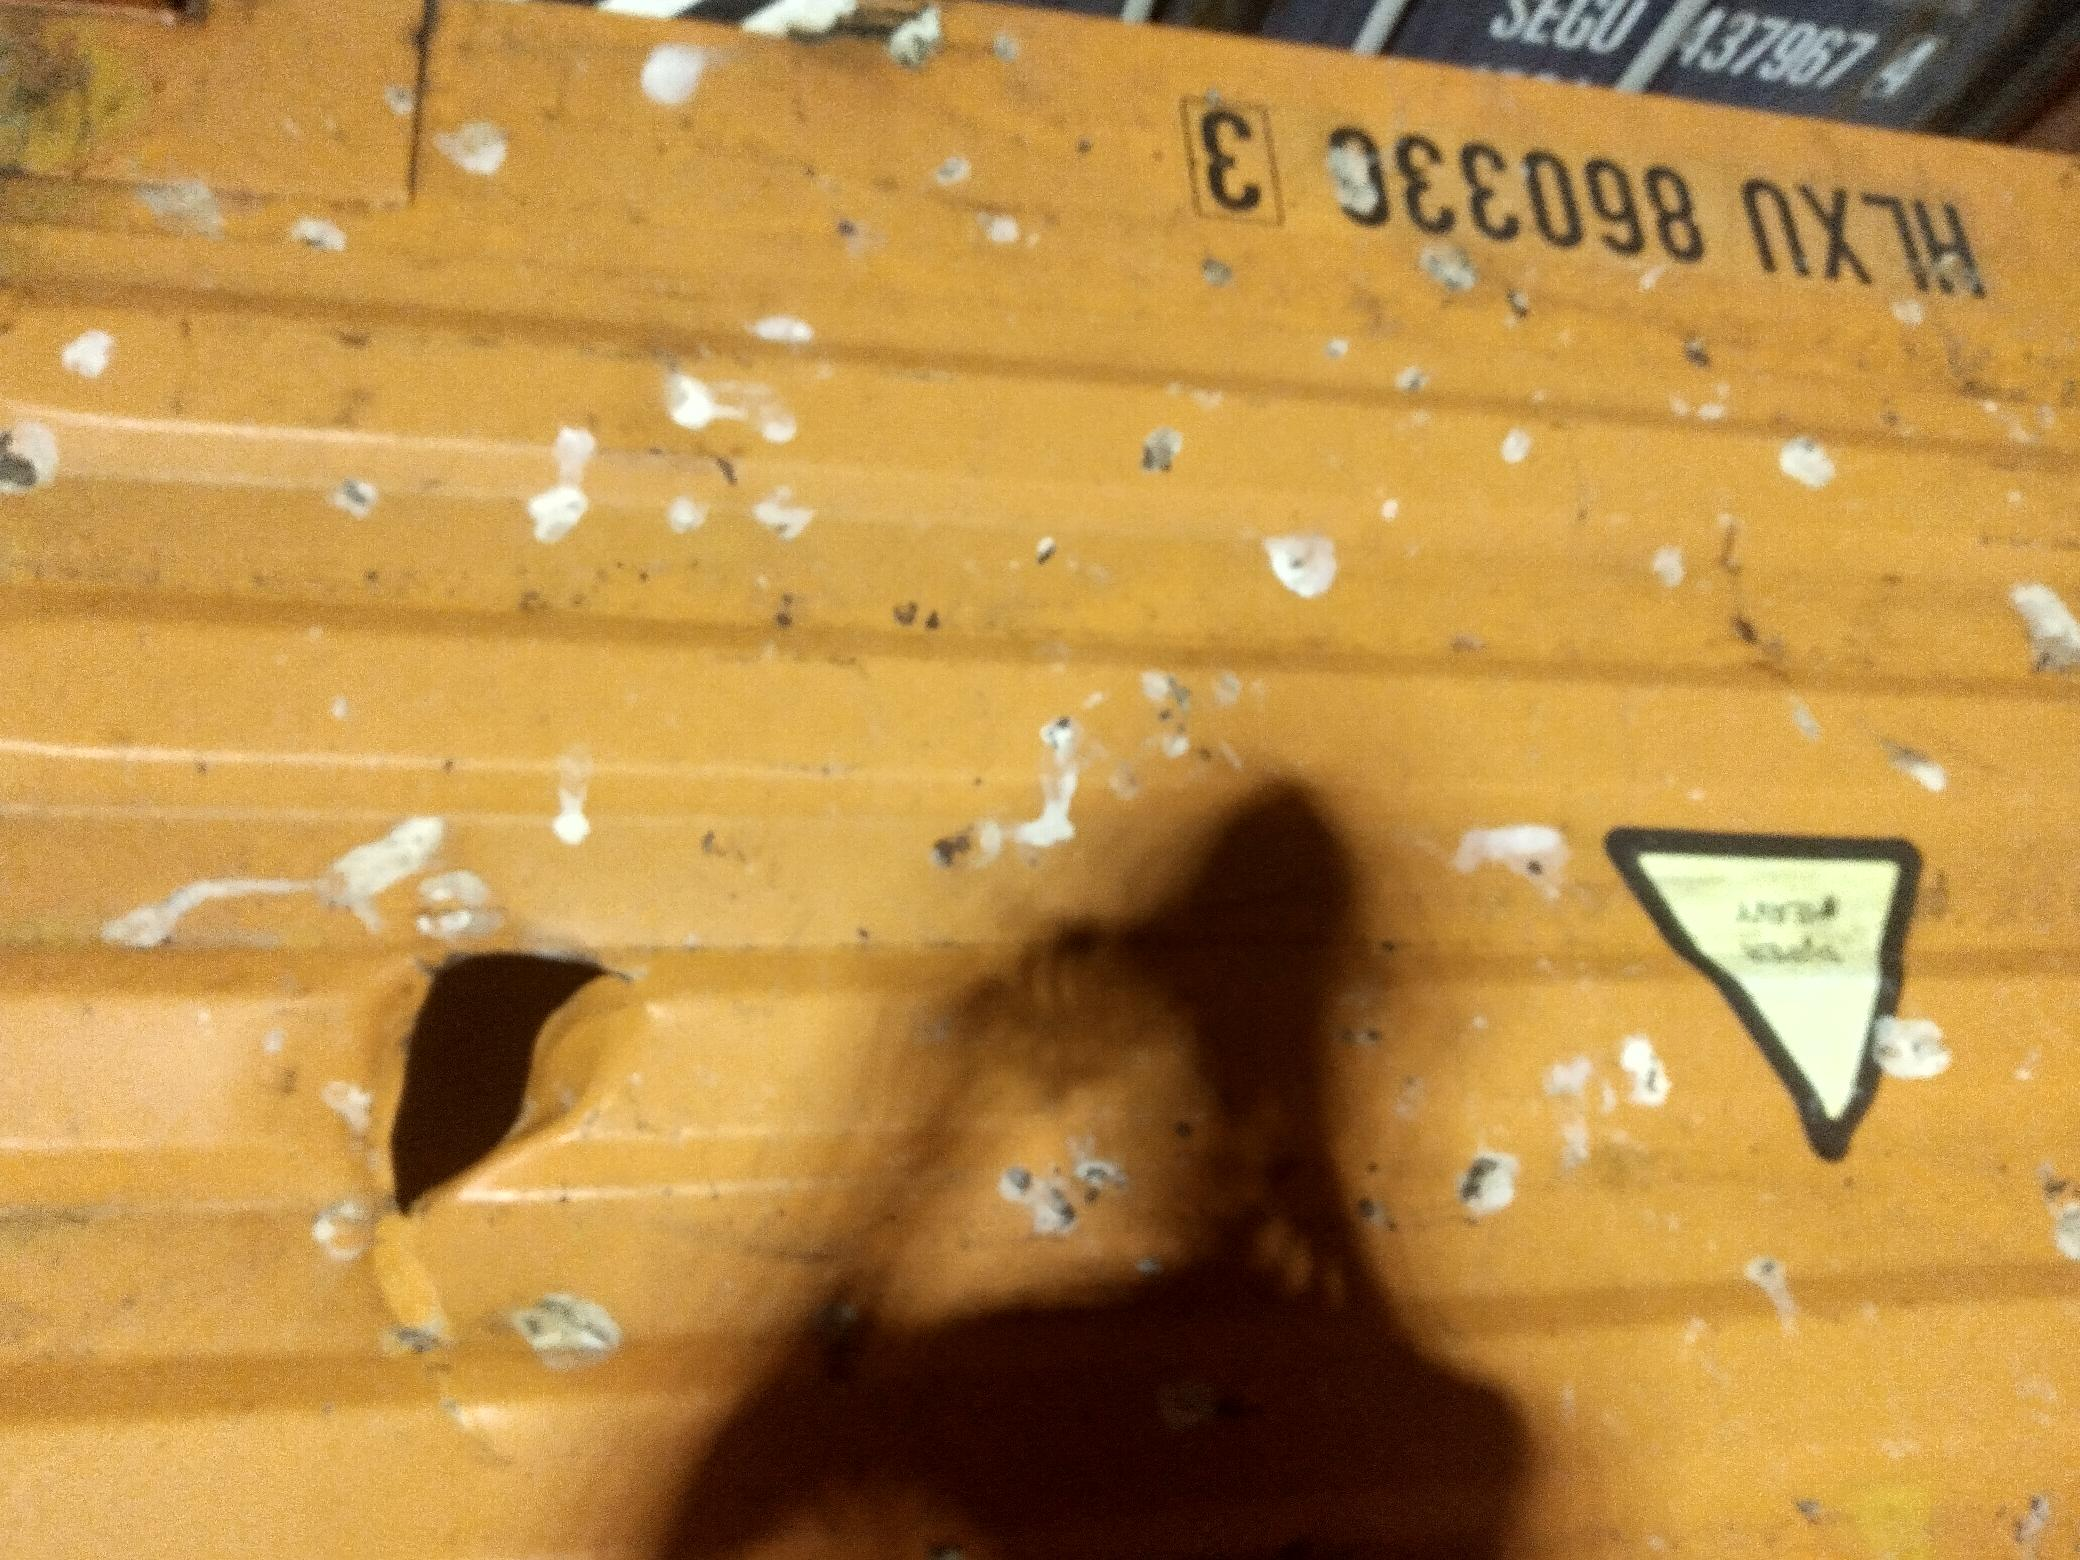hole: (313, 887, 645, 1222)
